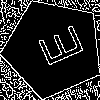E: (28, 23, 85, 72)
